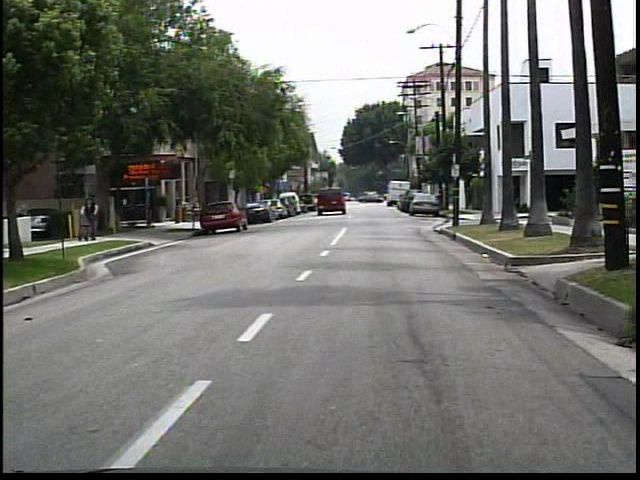person: (78, 194, 103, 244)
